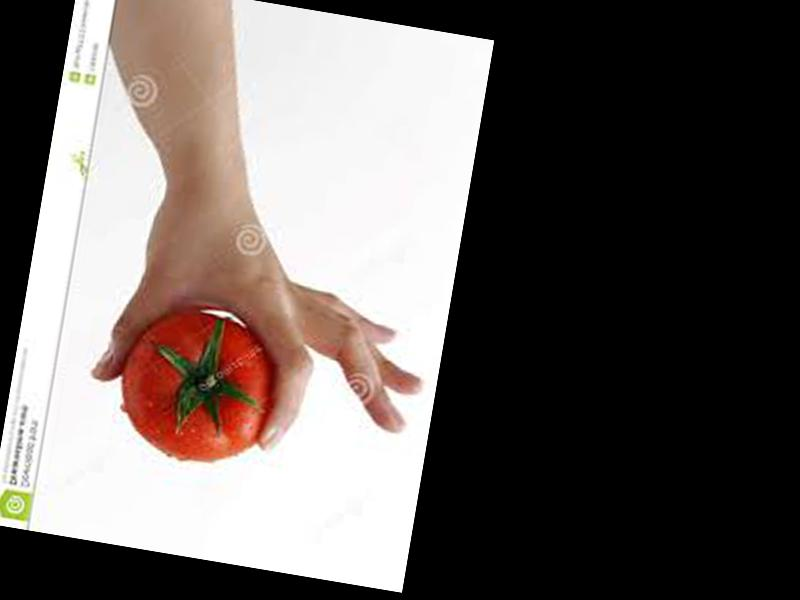Tomato: (110, 300, 286, 473)
